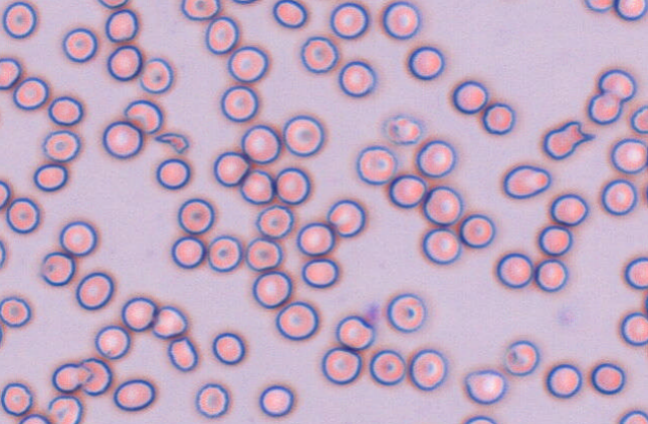RBC: (282, 114, 324, 156), (355, 144, 397, 185), (275, 300, 318, 340), (502, 164, 551, 199), (422, 185, 463, 226), (408, 348, 447, 390), (386, 292, 426, 332), (102, 120, 143, 159), (463, 368, 507, 404), (381, 0, 421, 39), (241, 124, 280, 164), (251, 270, 292, 308), (415, 139, 456, 177), (227, 45, 268, 83), (326, 198, 365, 237), (321, 346, 361, 384), (75, 271, 113, 310), (329, 1, 368, 39), (421, 227, 461, 264), (300, 35, 338, 73), (335, 314, 375, 350), (610, 137, 648, 174), (338, 60, 376, 97), (220, 85, 258, 122), (113, 378, 155, 411), (502, 339, 539, 376), (177, 197, 214, 234), (274, 166, 310, 204), (206, 234, 242, 272), (59, 220, 97, 256), (388, 173, 427, 208), (123, 99, 162, 134), (496, 252, 533, 288), (369, 349, 406, 385), (601, 178, 637, 215), (296, 221, 334, 256), (255, 204, 293, 239), (78, 357, 112, 396), (204, 15, 238, 54), (382, 113, 423, 145), (106, 45, 142, 81), (2, 1, 37, 38), (245, 236, 282, 271), (458, 213, 495, 248), (545, 363, 582, 398), (407, 45, 444, 80), (549, 193, 588, 226), (41, 129, 80, 162), (239, 169, 275, 204), (213, 151, 249, 186), (194, 382, 229, 418), (121, 296, 157, 331), (94, 324, 130, 359), (5, 197, 40, 233), (139, 57, 173, 94), (12, 76, 49, 110), (598, 68, 636, 101), (62, 27, 97, 62), (40, 251, 75, 286), (452, 80, 488, 114), (51, 362, 90, 393), (152, 305, 187, 339), (258, 384, 294, 417), (104, 8, 138, 42), (534, 258, 568, 292), (211, 331, 245, 365), (587, 91, 622, 124), (170, 235, 205, 268), (590, 362, 625, 395), (0, 382, 33, 416), (155, 158, 190, 190), (47, 95, 83, 126), (301, 258, 338, 288), (538, 224, 572, 256), (481, 102, 515, 134), (46, 395, 82, 424), (0, 295, 31, 327), (272, 0, 307, 28), (33, 163, 68, 191), (620, 312, 648, 346), (180, 0, 220, 20), (624, 256, 648, 289), (0, 57, 21, 89), (615, 0, 647, 20), (630, 104, 648, 134), (618, 409, 647, 423), (17, 413, 51, 424), (583, 0, 614, 12), (461, 414, 497, 423), (0, 179, 10, 209), (97, 0, 128, 9), (0, 238, 6, 269), (643, 289, 648, 316), (0, 319, 4, 350), (231, 0, 260, 4), (644, 180, 648, 207), (0, 102, 3, 130)
Schistocyte: (543, 121, 598, 159), (168, 339, 199, 373), (155, 132, 189, 155)
